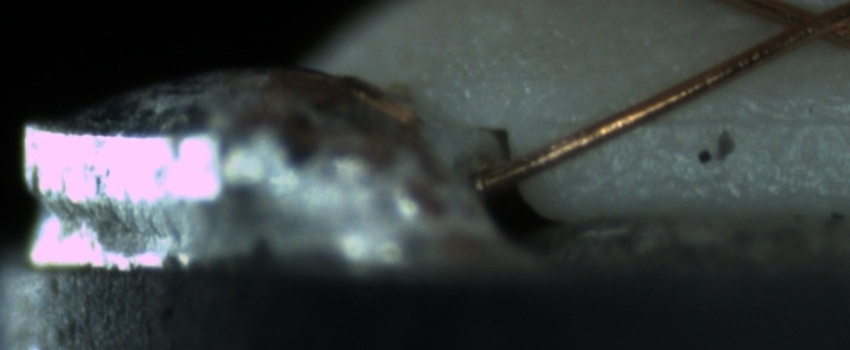CL: (760, 3, 846, 52)
DL: (560, 89, 849, 149)
